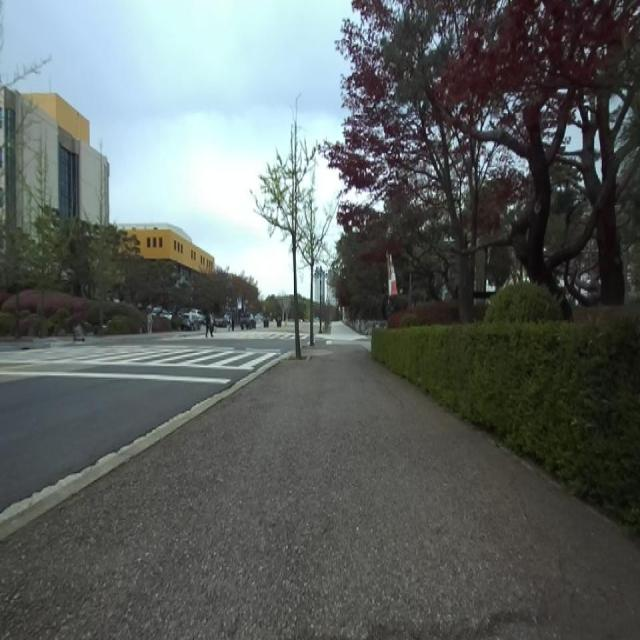sidewalk: (0, 342, 640, 639), (0, 359, 274, 541)
